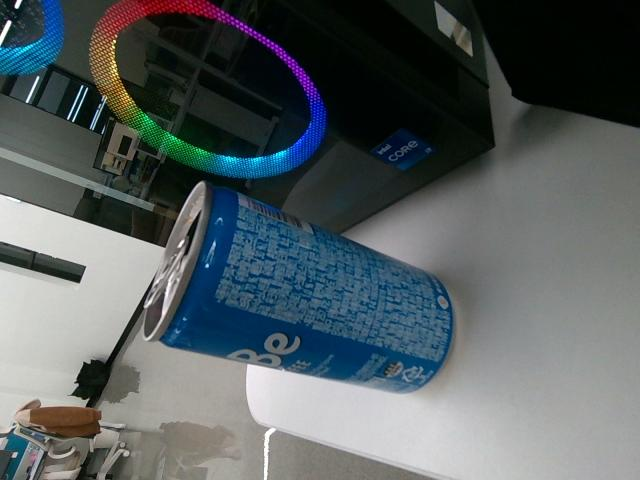letsbe: (141, 179, 455, 394)
